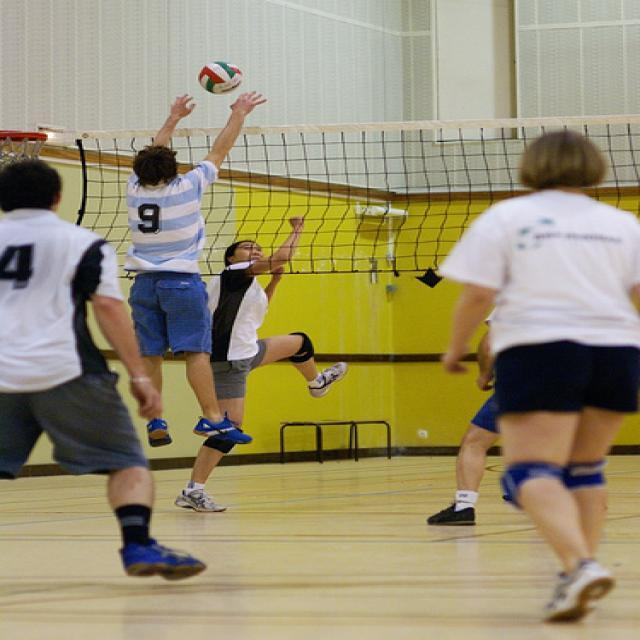volleyball: (197, 61, 242, 94)
